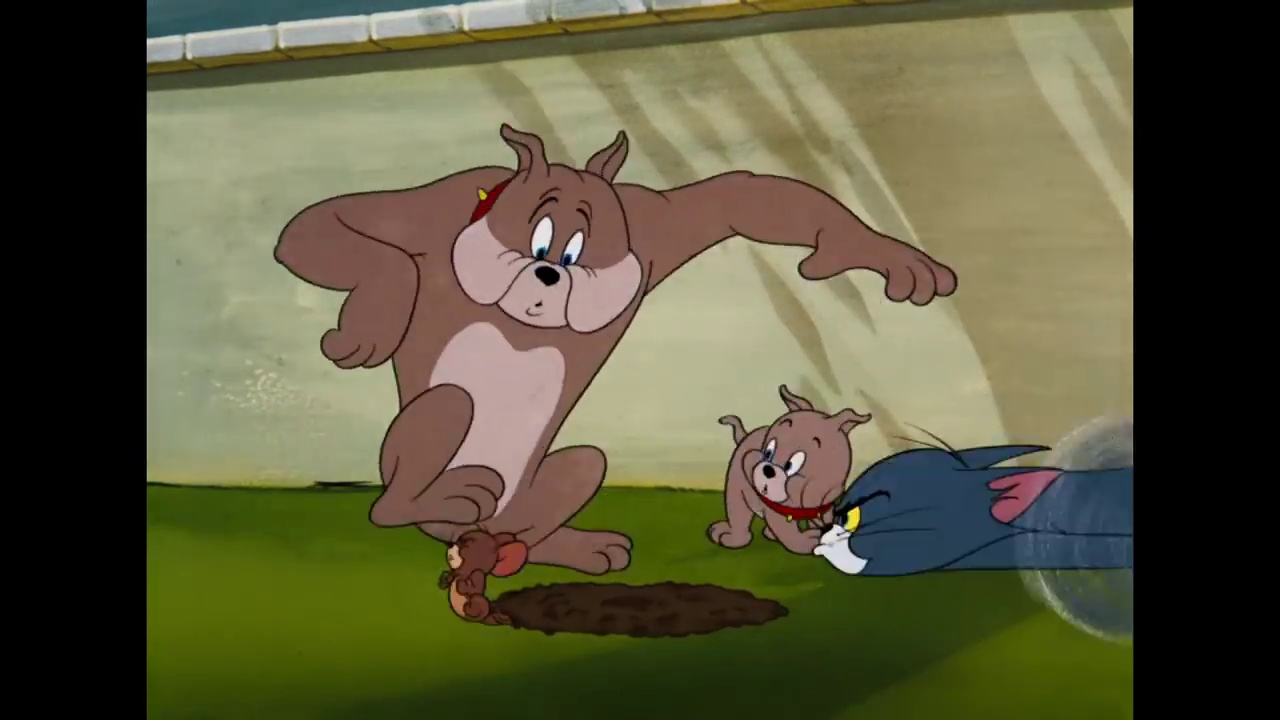spike: (449, 122, 652, 339)
tom: (808, 434, 1061, 576)
